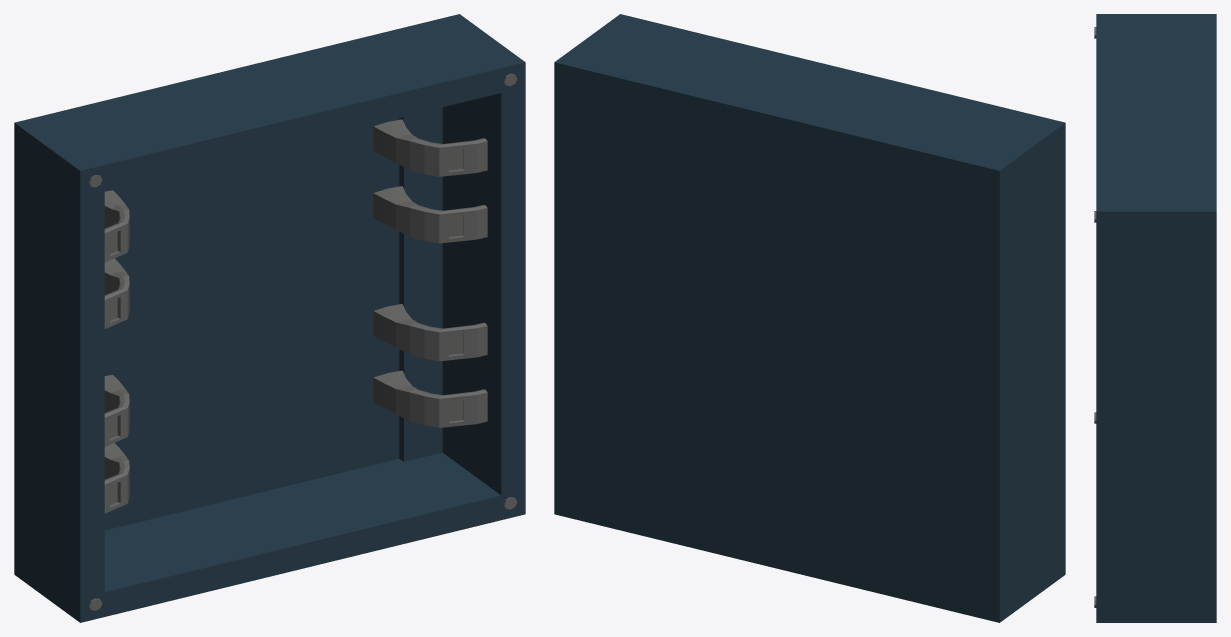
The model's file is samscablebox 1.fbx.
The picture shows the model from 3 angles, left to right: view 1: azimuth 30°, elevation 25°; view 2: azimuth 150°, elevation 25°; view 3: azimuth 270°, elevation 25°; orthographic projection. The views are drawn at different scales.
Visible parts, largest first — view 1: BoxWire; view 2: BoxWire; view 3: BoxWire.
Part boxes in pixels (x1,y1,x2,y2): BoxWire: (14,14,525,622); BoxWire: (554,14,1065,622); BoxWire: (1094,14,1216,622).
Size of the model in its own units: 81.19 by 78.74 by 21.17.
